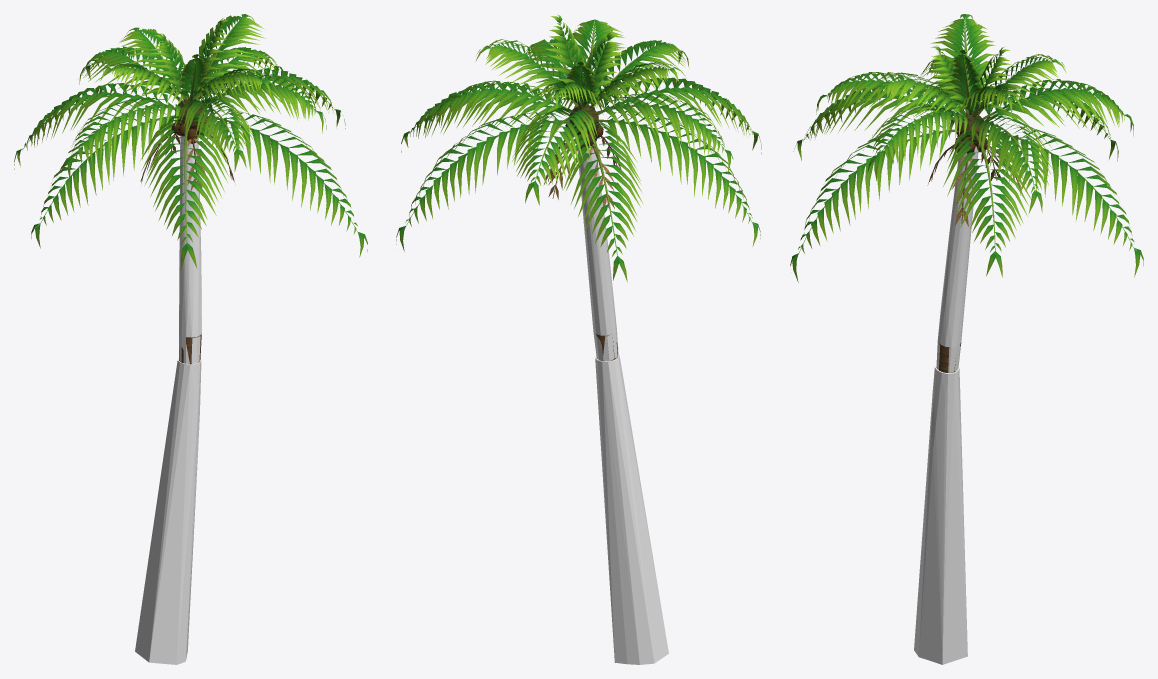
Rendered from palm_tall.glb.
The picture shows the model from 3 angles, left to right: view 1: azimuth 30°, elevation 25°; view 2: azimuth 150°, elevation 25°; view 3: azimuth 270°, elevation 25°; orthographic projection. The views are drawn at different scales.
Visible parts, largest first — view 1: Fronds, col_trunk_lower, col_trunk_upper, Trunk; view 2: Fronds, col_trunk_lower, col_trunk_upper, Trunk; view 3: Fronds, col_trunk_lower, col_trunk_upper, Trunk.
Boxes of the visible parts, x1,y1,x2,y2 form: Fronds: (14,14,367,270); col_trunk_lower: (135,358,201,664); col_trunk_upper: (179,135,201,363); Trunk: (140,98,234,364); Fronds: (396,14,761,282); col_trunk_lower: (595,354,668,664); col_trunk_upper: (577,144,618,361); Trunk: (543,104,620,360); Fronds: (790,14,1143,282); col_trunk_lower: (914,364,967,664); col_trunk_upper: (936,146,978,373); Trunk: (927,112,1021,372).
Bounding box in the file's own units: 8.17 × 14.63 × 7.34.
4 materials, 3 textured.
